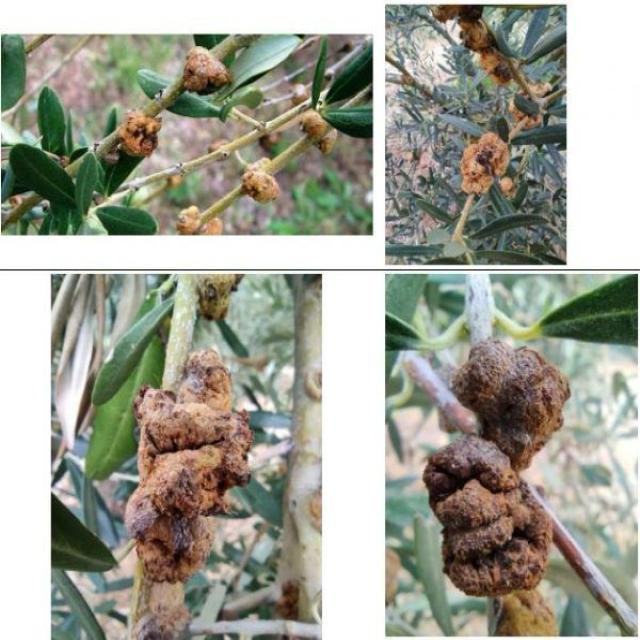Tuberculosis: (423, 338, 570, 634), (124, 350, 252, 639), (438, 6, 533, 96), (461, 132, 509, 195), (183, 46, 229, 93), (118, 111, 161, 157), (300, 109, 337, 153), (176, 205, 222, 234), (241, 169, 279, 201)
